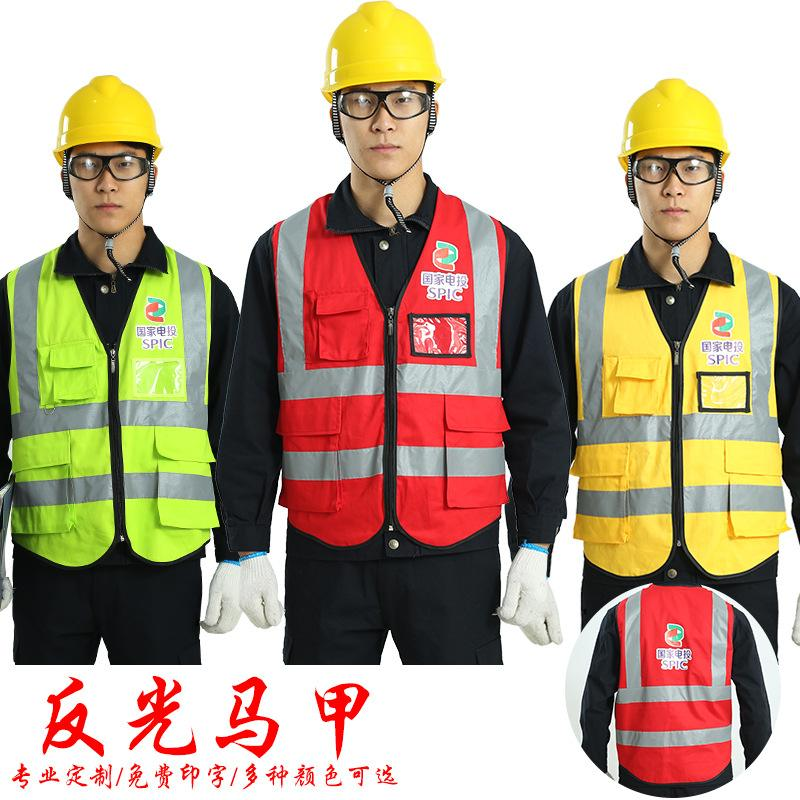person: (213, 1, 570, 664), (545, 75, 798, 641), (1, 72, 240, 664)
reflective_vest: (269, 184, 509, 549), (569, 250, 787, 580), (4, 244, 218, 570), (612, 584, 737, 788)
safety_helmet: (319, 1, 448, 181), (616, 76, 730, 245), (51, 73, 162, 238)
